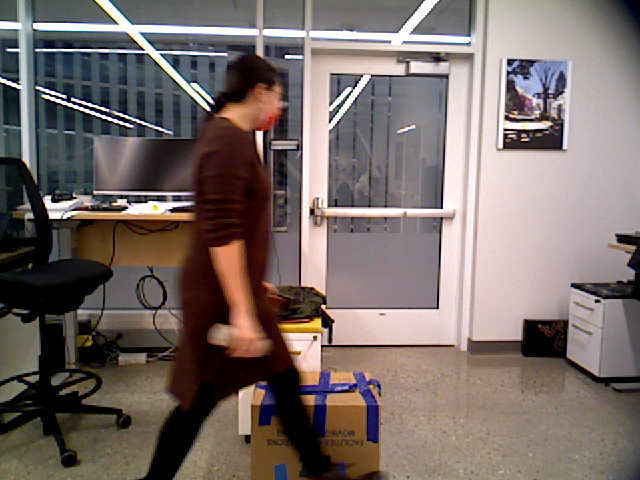painting3: (497, 57, 568, 150)
